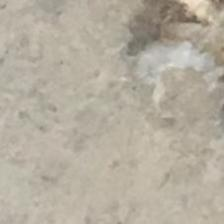Non_Crack: (0, 85, 224, 224)
